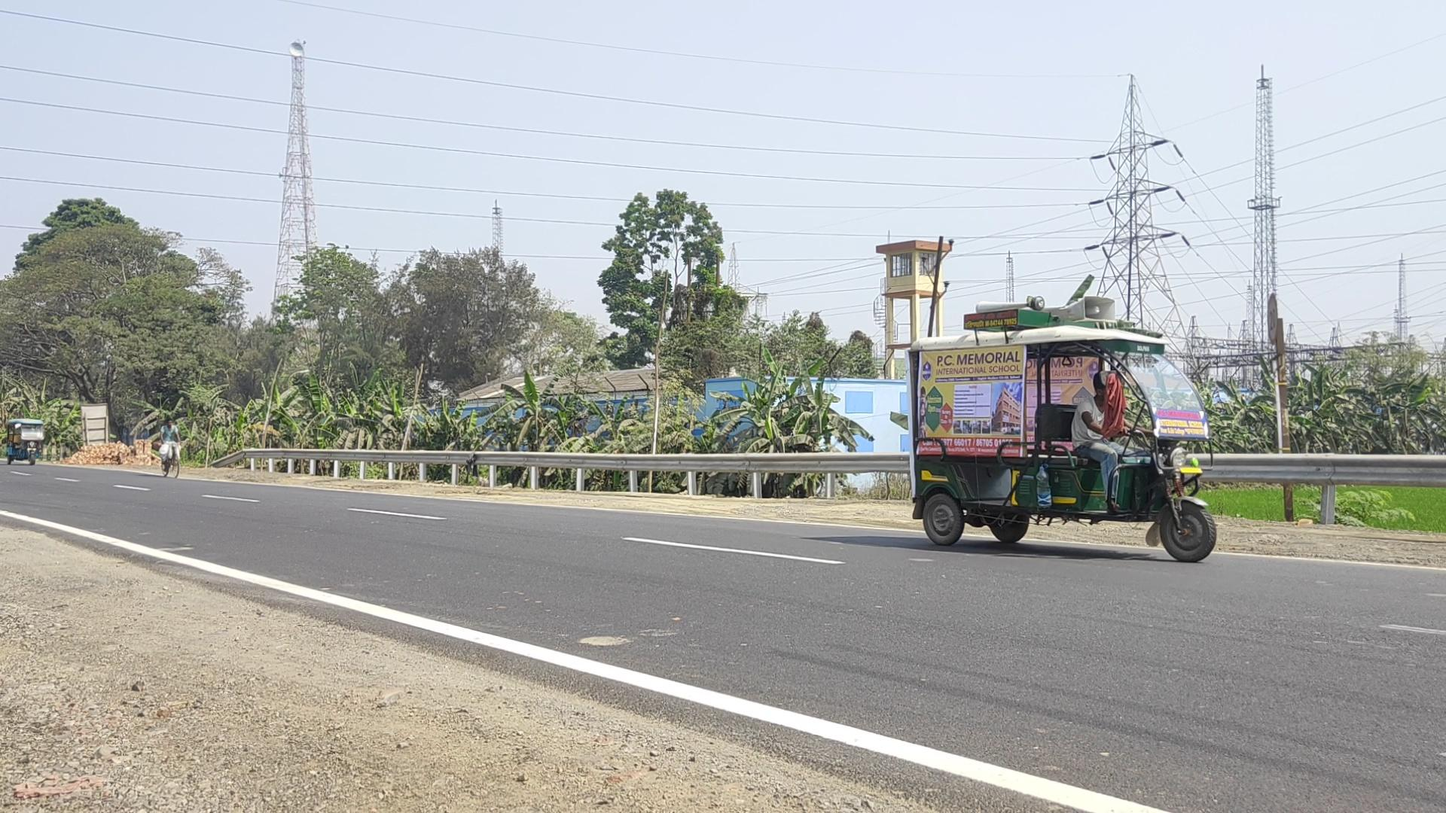Auto: (906, 295, 1216, 564), (6, 419, 44, 467)
bike: (158, 418, 181, 479)
